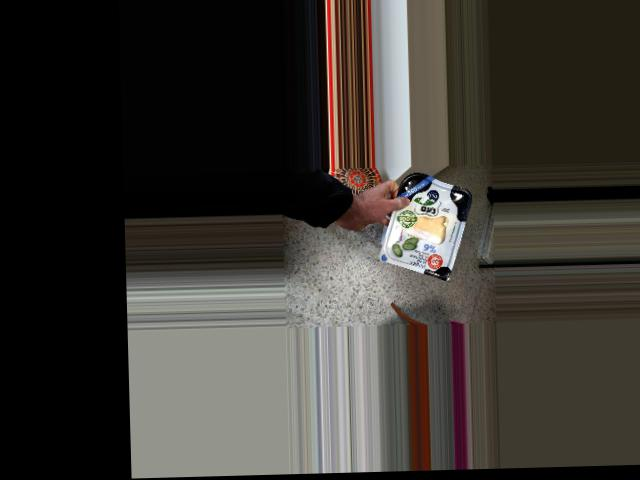cheese: (391, 181, 461, 269)
